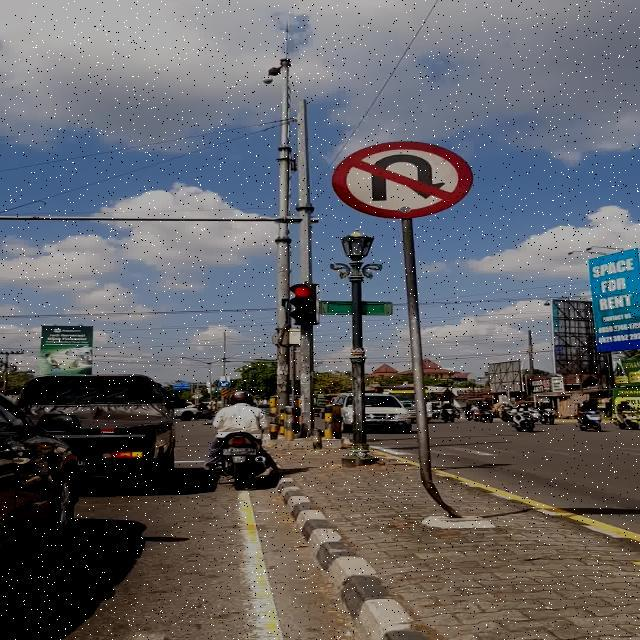Dilarang Putar Balik: (332, 140, 474, 218)
